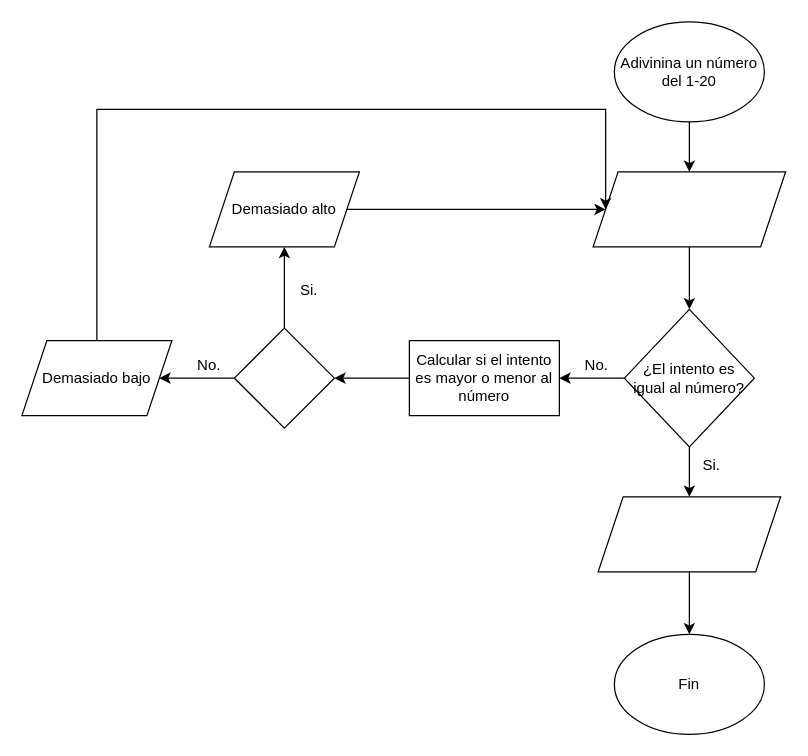
Some shapes in this 808 by 756 pixel diagram are drawn without their labels. The shapes that lost their labels are listed below. From the top down, each one's centre as x and y in pixels, then its label:
point 689,209: "Ingrese aquí"
point 283,377: Lo es?
point 689,534: Adivinaste el numero
